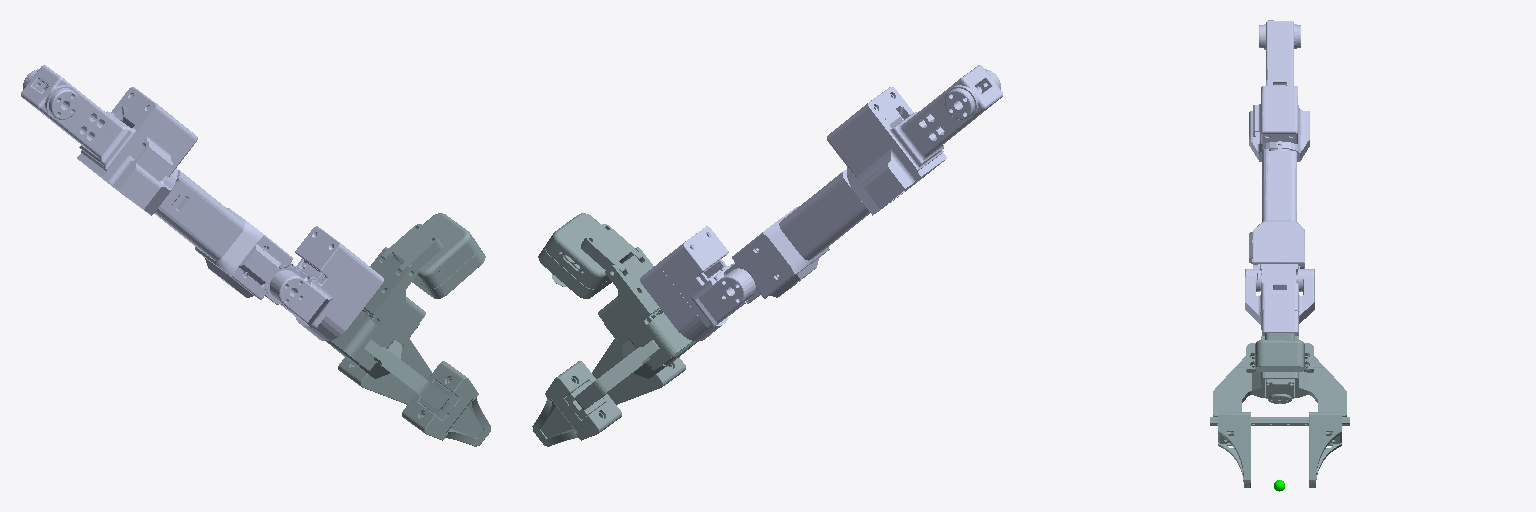
URDF robot description (Alicia_D_v5_6_gripper_50mm):
<?xml version="1.0" encoding="utf-8"?>
<!-- This URDF was automatically created by SolidWorks to URDF Exporter! Originally created by Stephen Brawner (brawner@gmail.com) 
     Commit Version: 1.6.0-4-g7f85cfe  Build Version: 1.6.7995.38578
     For more information, please see http://wiki.ros.org/sw_urdf_exporter -->
<robot
  name="Alicia_D_v5_6_gripper_50mm">
 <mujoco>
    <compiler meshdir="../../meshes/Alicia_D_v5_6/gripper_50mm/" discardvisual="false" />
    <contact>
      <exclude body1="base_link" body2="Link1"/>
      <exclude body1="Link1" body2="Link2"/>
      <exclude body1="Link2" body2="Link3"/>
      <exclude body1="Link3" body2="Link4"/>
      <exclude body1="Link4" body2="Link5"/>
      <exclude body1="Link5" body2="Link6"/>
      <exclude body1="Link6" body2="Link7_50mm"/>
      <exclude body1="Link7_50mm" body2="Link8_50mm"/>
    </contact>
  </mujoco>

  <link name="world" />

  <joint name="world_to_base_joint" type="fixed">
    <parent link="world"/>
    <child link="base_link"/>
    <origin xyz="0 0 0" rpy="0 0 3.14" />
  </joint>
  <link
    name="base_link">
    <inertial>
      <origin
        xyz="0.000826234790037257 0.00797844273246933 0.0457675129432198"
        rpy="0 0 0" />
      <mass
        value="0.73396142463988" />
      <inertia
        ixx="0.00138410344771636"
        ixy="5.67201110403939E-05"
        ixz="5.1436016423501E-07"
        iyy="0.00173617223701436"
        iyz="-1.48652204589359E-05"
        izz="0.00274667683203449" />
    </inertial>
    <visual>
      <origin
        xyz="0 0 0"
        rpy="0 0 0" />
      <geometry>
        <mesh
          filename="package://alicia_d_descriptions/meshes/Alicia_D_v5_6/gripper_50mm/base_link.STL" />
      </geometry>
      <material
        name="">
        <color
          rgba="0.807843137254902 0.843137254901961 0.905882352941176 1" />
      </material>
    </visual>
    <collision>
      <origin
        xyz="0 0 0"
        rpy="0 0 0" />
      <geometry>
        <mesh
          filename="package://alicia_d_descriptions/meshes/Alicia_D_v5_6/gripper_50mm/base_link.STL" />
      </geometry>
    </collision>
  </link>
  <link
    name="Link1">
    <inertial>
      <origin
        xyz="-0.000230595969793434 -1.29044880293489E-05 0.00303135656120262"
        rpy="0 0 0" />
      <mass
        value="0.195233452997327" />
      <inertia
        ixx="0.000258351125070493"
        ixy="8.79363230470998E-07"
        ixz="-6.87511809706085E-07"
        iyy="0.000149307709386745"
        iyz="-1.07703111237379E-06"
        izz="0.000339791274039062" />
    </inertial>
    <visual>
      <origin
        xyz="0 0 0"
        rpy="0 0 0" />
      <geometry>
        <mesh
          filename="package://alicia_d_descriptions/meshes/Alicia_D_v5_6/gripper_50mm/Link1.STL" />
      </geometry>
      <material
        name="">
        <color
          rgba="0.796078431372549 0.823529411764706 0.937254901960784 1" />
      </material>
    </visual>
    <collision>
      <origin
        xyz="0 0 0"
        rpy="0 0 0" />
      <geometry>
        <mesh
          filename="package://alicia_d_descriptions/meshes/Alicia_D_v5_6/gripper_50mm/Link1.STL" />
      </geometry>
    </collision>
  </link>
  <joint
    name="Joint1"
    type="revolute">
    <origin
      xyz="0 0 0.1295"
      rpy="0 0 0" />
    <parent
      link="base_link" />
    <child
      link="Link1" />
    <axis
      xyz="0 0 1" />
    <limit
      lower="-2.16"
      upper="2.16"
      effort="5"
      velocity="12" />
  </joint>
  <link
    name="Link2">
    <inertial>
      <origin
        xyz="0.15058869562262 0.000942409990636449 0.000567598737005813"
        rpy="0 0 0" />
      <mass
        value="0.207033693061786" />
      <inertia
        ixx="0.000128135500181764"
        ixy="1.19125955596776E-07"
        ixz="1.66696805664369E-06"
        iyy="0.00020570839060521"
        iyz="-3.50025103451336E-07"
        izz="0.000122721347332605" />
    </inertial>
    <visual>
      <origin
        xyz="0 0 0"
        rpy="0 0 0" />
      <geometry>
        <mesh
          filename="package://alicia_d_descriptions/meshes/Alicia_D_v5_6/gripper_50mm/Link2.STL" />
      </geometry>
      <material
        name="">
        <color
          rgba="0.807843137254902 0.843137254901961 0.905882352941176 1" />
      </material>
    </visual>
    <collision>
      <origin
        xyz="0 0 0"
        rpy="0 0 0" />
      <geometry>
        <mesh
          filename="package://alicia_d_descriptions/meshes/Alicia_D_v5_6/gripper_50mm/Link2.STL" />
      </geometry>
    </collision>
  </link>
  <joint
    name="Joint2"
    type="revolute">
    <origin
      xyz="0 0 0.0428699999999999"
      rpy="1.5707963267949 -1.5707963267949 0" />
    <parent
      link="Link1" />
    <child
      link="Link2" />
    <axis
      xyz="0 0 -1" />
    <limit
      lower="-1.57"
      upper="1.57"
      effort="5"
      velocity="12" />
  </joint>
  <link
    name="Link3">
    <inertial>
      <origin
        xyz="-0.00248143779329096 -0.0557863222033137 -0.000269721122389092"
        rpy="0 0 0" />
      <mass
        value="0.0845575636182319" />
      <inertia
        ixx="7.61918224458836E-05"
        ixy="-2.2649811089975E-06"
        ixz="-3.82299429105109E-07"
        iyy="2.87941474258093E-05"
        iyz="-5.38445186494266E-06"
        izz="8.04370522438273E-05" />
    </inertial>
    <visual>
      <origin
        xyz="0 0 0"
        rpy="0 0 0" />
      <geometry>
        <mesh
          filename="package://alicia_d_descriptions/meshes/Alicia_D_v5_6/gripper_50mm/Link3.STL" />
      </geometry>
      <material
        name="">
        <color
          rgba="0.792156862745098 0.819607843137255 0.933333333333333 1" />
      </material>
    </visual>
    <collision>
      <origin
        xyz="0 0 0"
        rpy="0 0 0" />
      <geometry>
        <mesh
          filename="package://alicia_d_descriptions/meshes/Alicia_D_v5_6/gripper_50mm/Link3.STL" />
      </geometry>
    </collision>
  </link>
  <joint
    name="Joint3"
    type="revolute">
    <origin
      xyz="0.223671302741224 0.0225916129580062 -5.00000000004269E-05"
      rpy="0 0 -2.35619455367747" />
    <parent
      link="Link2" />
    <child
      link="Link3" />
    <axis
      xyz="0 0 -1" />
    <limit
      lower="-0.5"
      upper="2.35619"
      effort="5"
      velocity="12" />
  </joint>
  <link
    name="Link4">
    <inertial>
      <origin
        xyz="-0.00029836550449891 -0.000601368925850489 -0.0659740391896737"
        rpy="0 0 0" />
      <mass
        value="0.0653695953286769" />
      <inertia
        ixx="7.03004188086356E-05"
        ixy="9.68417851216743E-09"
        ixz="-7.50131707418213E-07"
        iyy="6.87470297888139E-05"
        iyz="-4.45271906081802E-08"
        izz="1.68226189350756E-05" />
    </inertial>
    <visual>
      <origin
        xyz="0 0 0"
        rpy="0 0 0" />
      <geometry>
        <mesh
          filename="package://alicia_d_descriptions/meshes/Alicia_D_v5_6/gripper_50mm/Link4.STL" />
      </geometry>
      <material
        name="">
        <color
          rgba="0.792156862745098 0.819607843137255 0.933333333333333 1" />
      </material>
    </visual>
    <collision>
      <origin
        xyz="0 0 0"
        rpy="0 0 0" />
      <geometry>
        <mesh
          filename="package://alicia_d_descriptions/meshes/Alicia_D_v5_6/gripper_50mm/Link4.STL" />
      </geometry>
    </collision>
  </link>
  <joint
    name="Joint4"
    type="revolute">
    <origin
      xyz="0.00211000000000205 -0.0990000000000029 -0.000199999999999935"
      rpy="1.5707963267949 0 -3.14159265358979" />
    <parent
      link="Link3" />
    <child
      link="Link4" />
    <axis
      xyz="0 0 1" />
    <limit
      lower="-2.7925"
      upper="2.7925"
      effort="5"
      velocity="12" />
  </joint>
  <link
    name="Link5">
    <inertial>
      <origin
        xyz="-0.0113684233797882 -0.0308687469847002 0.000870449933405808"
        rpy="0 0 0" />
      <mass
        value="0.0507639016939355" />
      <inertia
        ixx="1.87701017076279E-05"
        ixy="-2.01098609907306E-06"
        ixz="5.15226500390501E-08"
        iyy="2.51021034466006E-05"
        iyz="-4.22412451727219E-08"
        izz="1.72571710040523E-05" />
    </inertial>
    <visual>
      <origin
        xyz="0 0 0"
        rpy="0 0 0" />
      <geometry>
        <mesh
          filename="package://alicia_d_descriptions/meshes/Alicia_D_v5_6/gripper_50mm/Link5.STL" />
      </geometry>
      <material
        name="">
        <color
          rgba="0.792156862745098 0.819607843137255 0.933333333333333 1" />
      </material>
    </visual>
    <collision>
      <origin
        xyz="0 0 0"
        rpy="0 0 0" />
      <geometry>
        <mesh
          filename="package://alicia_d_descriptions/meshes/Alicia_D_v5_6/gripper_50mm/Link5.STL" />
      </geometry>
    </collision>
  </link>
  <joint
    name="Joint5"
    type="revolute">
    <origin
      xyz="0 -0.000500000000000358 -0.12235"
      rpy="1.5707963267949 0 3.14159265358979" />
    <parent
      link="Link4" />
    <child
      link="Link5" />
    <axis
      xyz="0 0 -1" />
    <limit
      lower="-1.57"
      upper="1.57"
      effort="5"
      velocity="12" />
  </joint>
  <link
    name="Link6">
    <inertial>
      <origin
        xyz="-0.0274897808069792 -1.78816252605362E-05 0.0342551063501212"
        rpy="0 0 0" />
      <mass
        value="0.130364883326573" />
      <inertia
        ixx="7.59035802593379E-05"
        ixy="1.1454757042377E-08"
        ixz="-3.58078000042196E-06"
        iyy="3.53175388320522E-05"
        iyz="2.09250433426614E-08"
        izz="8.3197600961374E-05" />
    </inertial>
    <visual>
      <origin
        xyz="0 0 0"
        rpy="0 0 0" />
      <geometry>
        <mesh
          filename="package://alicia_d_descriptions/meshes/Alicia_D_v5_6/gripper_50mm/Link6.STL" />
      </geometry>
      <material
        name="">
        <color
          rgba="0.592156862745098 0.666666666666667 0.682352941176471 1" />
      </material>
    </visual>
    <collision>
      <origin
        xyz="0 0 0"
        rpy="0 0 0" />
      <geometry>
        <mesh
          filename="package://alicia_d_descriptions/meshes/Alicia_D_v5_6/gripper_50mm/Link6.STL" />
      </geometry>
    </collision>
  </link>
  <joint
    name="Joint6"
    type="revolute">
    <origin
      xyz="-0.00385 -0.0575 0.001"
      rpy="1.5708 0 0" />
    <parent
      link="Link5" />
    <child
      link="Link6" />
    <axis
      xyz="0 0 -1" />
    <limit
      lower="-3.14"
      upper="3.14"
      effort="5"
      velocity="12" />
  </joint>
  <link
    name="Link7">
    <inertial>
      <origin
        xyz="-2.97087515144234E-08 -0.0434087591943531 0.0106558526512254"
        rpy="0 0 0" />
      <mass
        value="0.0256461121677846" />
      <inertia
        ixx="6.46830326573713E-06"
        ixy="2.39543800976369E-11"
        ixz="4.6372130603958E-12"
        iyy="5.13428741941764E-06"
        iyz="1.26432048814165E-06"
        izz="8.03606347912528E-06" />
    </inertial>
    <visual>
      <origin
        xyz="0 0 0"
        rpy="0 0 0" />
      <geometry>
        <mesh
          filename="package://alicia_d_descriptions/meshes/Alicia_D_v5_6/gripper_50mm/Link7.STL" />
      </geometry>
      <material
        name="">
        <color
          rgba="0.592156862745098 0.666666666666667 0.682352941176471 1" />
      </material>
    </visual>
    <collision>
      <origin
        xyz="0 0 0"
        rpy="0 0 0" />
      <geometry>
        <mesh
          filename="package://alicia_d_descriptions/meshes/Alicia_D_v5_6/gripper_50mm/Link7.STL" />
      </geometry>
    </collision>
  </link>
  <joint
    name="left_finger"
    type="prismatic">
    <origin
      xyz="0.0002 -0.025469 0.13098"
      rpy="1.5708 0 0" />
    <parent
      link="Link6" />
    <child
      link="Link7" />
    <axis
      xyz="0 0 1" />
    <limit
      lower="-0.025"
      upper="0"
      effort="5"
      velocity="10" />
    <mimic joint="right_finger" multiplier="-1" offset="0"/>
  </joint>
  <link
    name="Link8">
    <inertial>
      <origin
        xyz="2.97087527356688E-08 0.0434087591943507 0.0106558526512254"
        rpy="0 0 0" />
      <mass
        value="0.0256461121677874" />
      <inertia
        ixx="6.46830326573822E-06"
        ixy="2.3954379824257E-11"
        ixz="-4.63721284179035E-12"
        iyy="5.13428741941821E-06"
        iyz="-1.26432048814209E-06"
        izz="8.03606347912602E-06" />
    </inertial>
    <visual>
      <origin
        xyz="0 0 0"
        rpy="0 0 0" />
      <geometry>
        <mesh
          filename="package://alicia_d_descriptions/meshes/Alicia_D_v5_6/gripper_50mm/Link8.STL" />
      </geometry>
      <material
        name="">
        <color
          rgba="0.592156862745098 0.666666666666667 0.682352941176471 1" />
      </material>
    </visual>
    <collision>
      <origin
        xyz="0 0 0"
        rpy="0 0 0" />
      <geometry>
        <mesh
          filename="package://alicia_d_descriptions/meshes/Alicia_D_v5_6/gripper_50mm/Link8.STL" />
      </geometry>
    </collision>
  </link>
  <joint
    name="right_finger"
    type="prismatic">
    <origin
      xyz="0.0002 0.025469 0.13098"
      rpy="-1.5708 0 0" />
    <parent
      link="Link6" />
    <child
      link="Link8" />
    <axis
      xyz="0 0 -1" />
    <limit
      lower="0"
      upper="0.025"
      effort="5"
      velocity="10" />
  </joint>


  <link
    name="tool0">
    <visual>
      <origin
        xyz="0 0 0"
        rpy="0 0 0" />
      <geometry>
        <sphere radius="0.005" /> <!-- 定义一个半径为0.02米的小球体 -->
      </geometry>
      <material
        name="green_virtual_sphere_material"> <!-- 可以给材质起个名字 -->
        <color
          rgba="0 1 0 1" /> <!-- 绿色 (R G B A)，A为1表示不透明 -->
      </material>
    </visual>
  </link>
  <joint
    name="Grasp2tool"
    type="fixed">
    <origin
      xyz="-0.0002 -0.0003 0.13118"
      rpy="0 0 0" />
    <parent
      link="Link6" />
    <child
      link="tool0" />
    <axis
      xyz="0 0 0" />
  </joint>

</robot>

--- What the picture shows (computed from the rendered views, not written in the file) ---
Views: 3 orthographic renders of the robot side by side, from view 1: azimuth 30°, elevation 25°; view 2: azimuth 150°, elevation 25°; view 3: azimuth 270°, elevation 25°.
Model Alicia_D_v5_6_gripper_50mm with 11 links and 10 joints (6 revolute, 2 prismatic, 2 fixed), rooted at world, posed every joint at zero.
Visible links, largest first — view 1: Link6, Link3, Link4, Link5, Link7, Link8; view 2: Link6, Link3, Link4, Link5, Link8, Link7; view 3: Link6, Link4, Link3, Link5, Link7, Link8.
Boxes of the visible links, x1,y1,x2,y2 form: Link6: (326, 213, 485, 415); Link3: (21, 65, 197, 215); Link4: (154, 170, 300, 304); Link5: (270, 226, 383, 340); Link7: (402, 361, 490, 446); Link8: (338, 338, 431, 404); Link6: (538, 213, 696, 415); Link3: (827, 65, 1002, 215); Link4: (724, 169, 869, 303); Link5: (640, 226, 753, 341); Link8: (532, 361, 621, 446); Link7: (592, 339, 685, 404); Link6: (1210, 333, 1349, 425); Link4: (1249, 145, 1304, 291); Link3: (1249, 20, 1309, 161); Link5: (1245, 269, 1314, 335); Link7: (1218, 412, 1250, 487); Link8: (1309, 412, 1341, 487).
Size in the robot's own frame: 0.315 by 0.12 by 0.3092 metres.
6 mesh visuals loaded from 9 distinct referenced files (6 binary STL); not drawn: 3 (reference not matched to a file when rendering).
